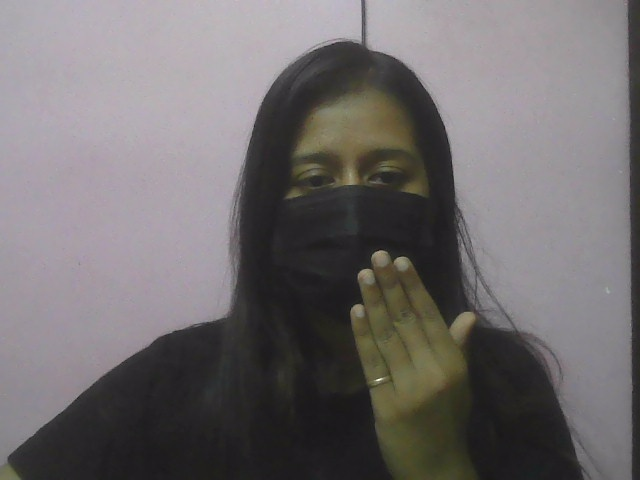Thank you: (338, 238, 490, 479)
